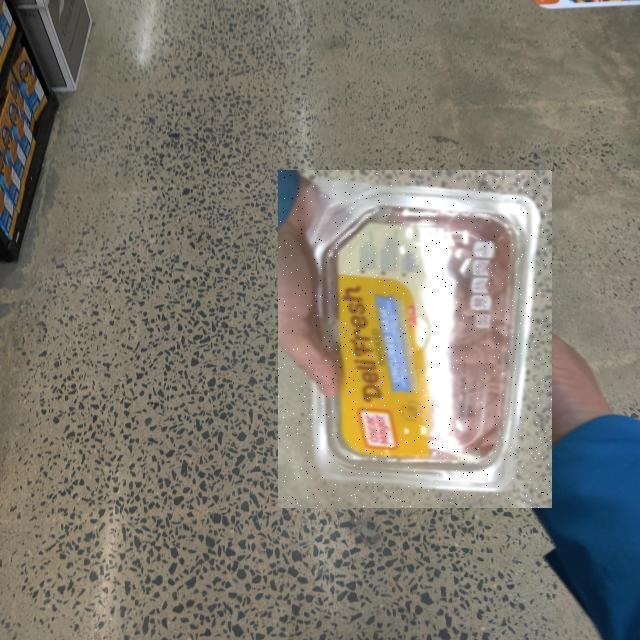Meat: (278, 171, 552, 509)
